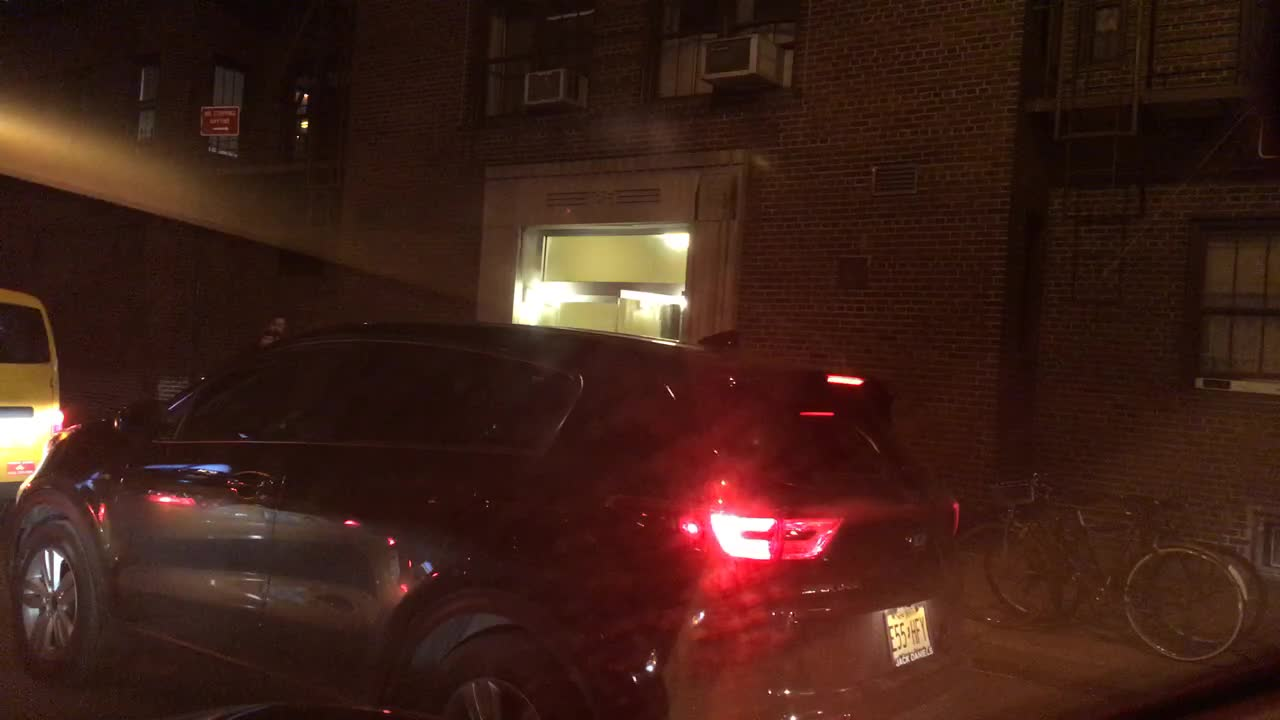bike: (958, 469, 1245, 662), (986, 475, 1261, 655)
car: (7, 321, 959, 718), (0, 284, 57, 499)
traffic sign: (199, 103, 235, 138)
